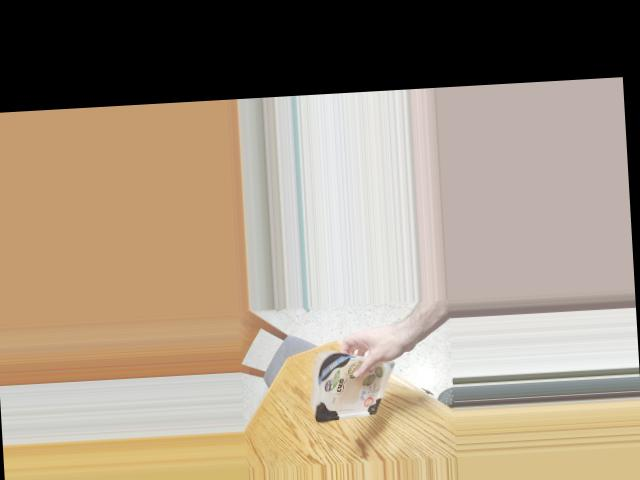cheese: (303, 346, 381, 419)
